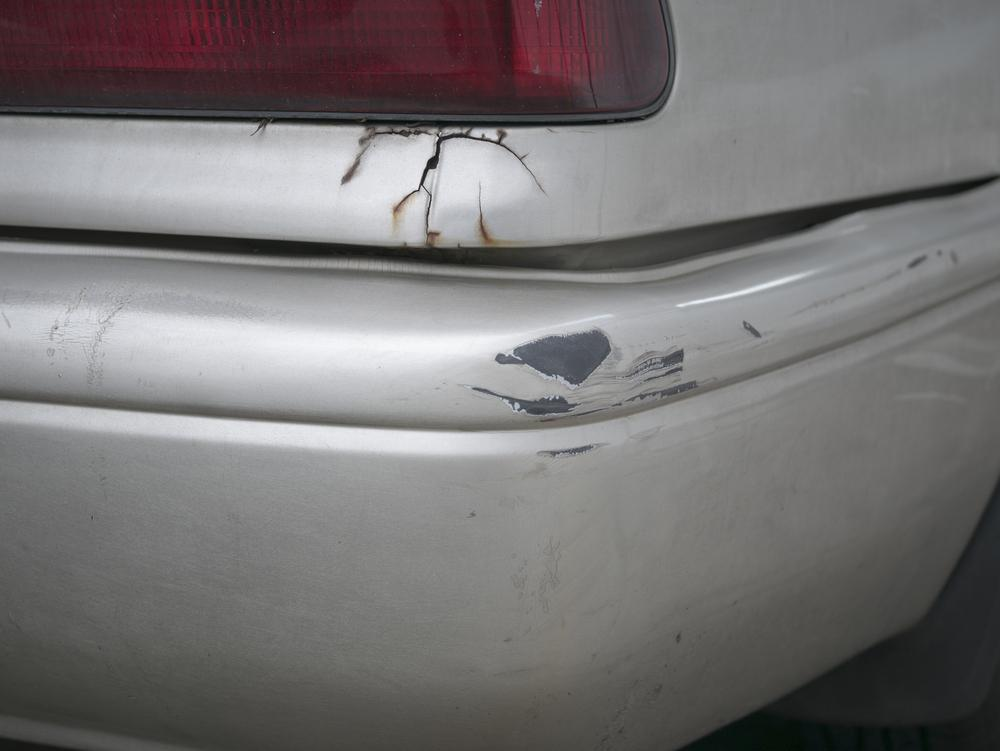crack: (369, 126, 549, 246)
scratch: (461, 242, 968, 464)
